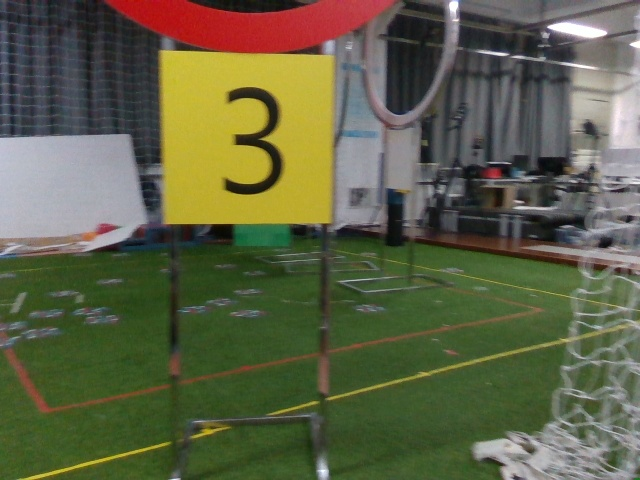target: (162, 55, 329, 225)
